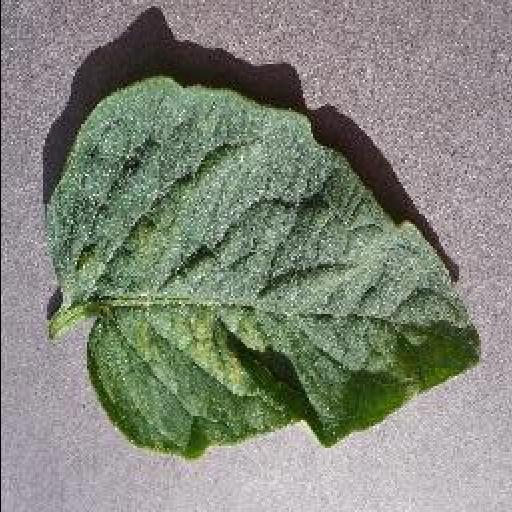disease_tomato: (44, 74, 478, 460)
